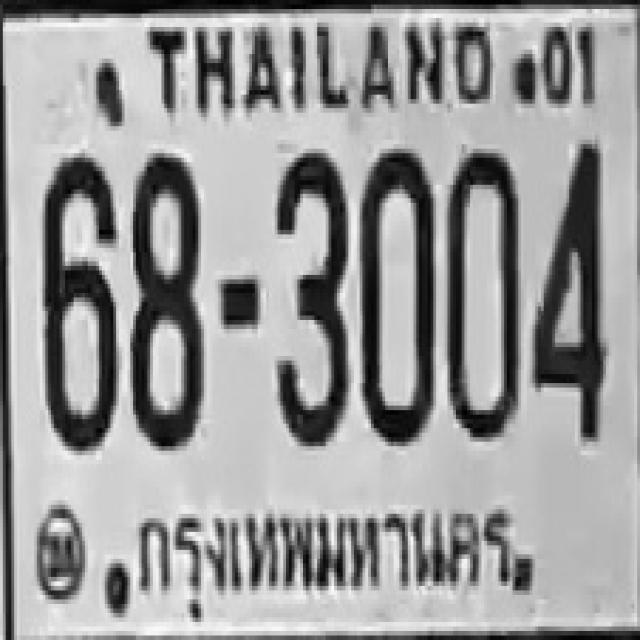0: (360, 144, 433, 442), (445, 149, 518, 437)
3: (273, 148, 347, 442)
4: (531, 140, 605, 437)
6: (41, 153, 118, 451)
8: (128, 149, 200, 446)
BKK: (130, 488, 518, 616)
